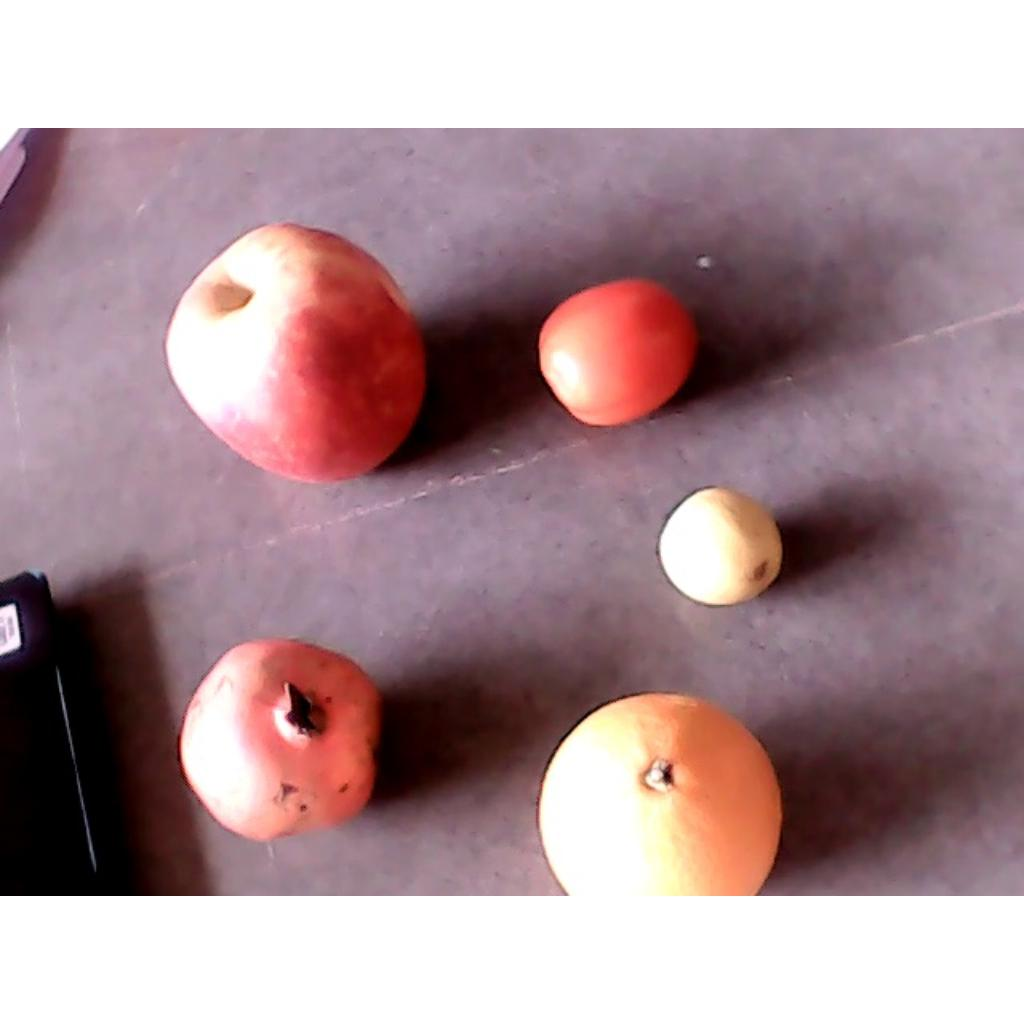apple: (164, 223, 426, 482)
lemon: (659, 486, 784, 607)
orange: (537, 692, 783, 894)
pomegranate: (178, 637, 382, 842)
tomato: (537, 279, 698, 427)
